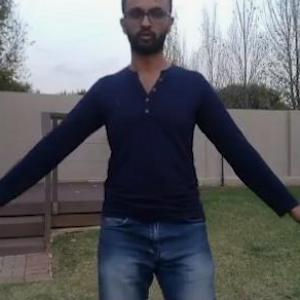land: (18, 3, 276, 299)
